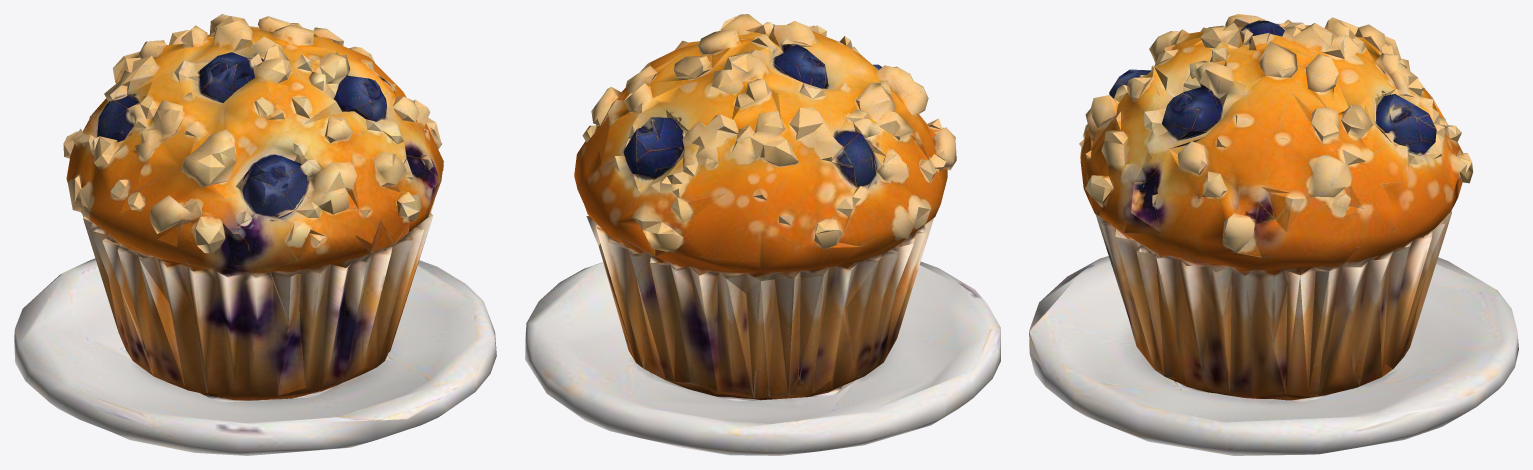
Rendered from muffin.gltf.
3 views of the same model, side by side, from view 1: azimuth 30°, elevation 25°; view 2: azimuth 150°, elevation 25°; view 3: azimuth 270°, elevation 25° (orthographic). The views are drawn at different scales.
Parts seen in each view (by area): view 1: muffin; view 2: muffin; view 3: muffin.
Part boxes in pixels (x1,y1,x2,y2): muffin: (14,14,496,455); muffin: (525,14,1000,455); muffin: (1029,14,1518,455).
Size of the model in its own units: 0.9762 by 0.75 by 0.9741.
Materials: 1 (1 with a texture image).
